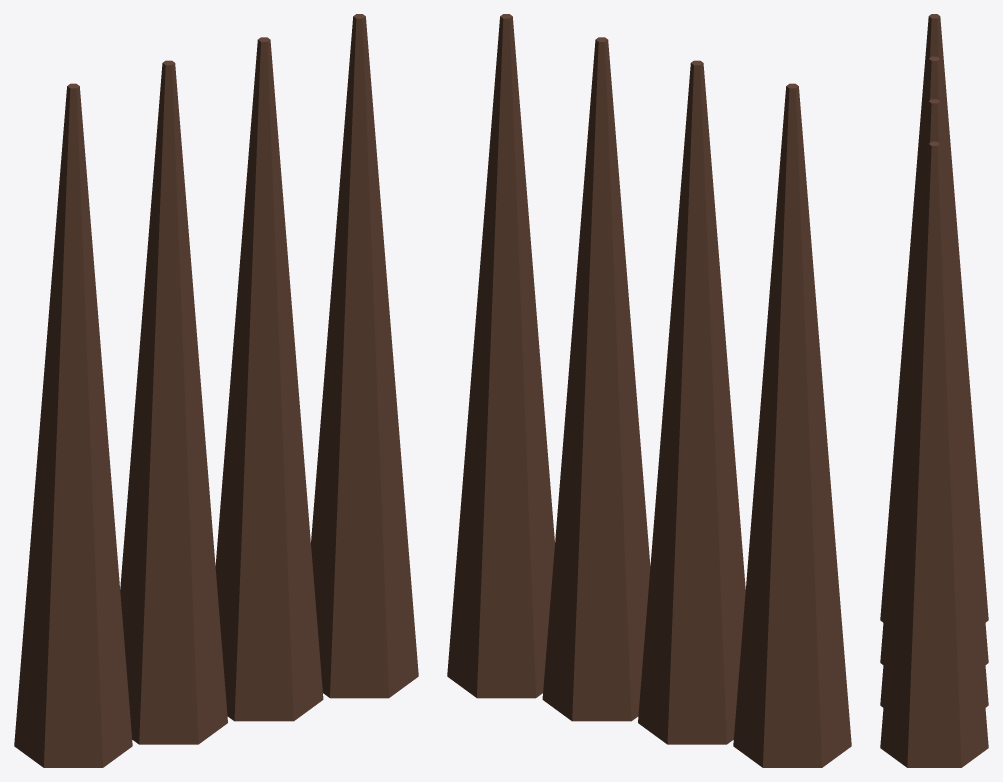
File: goblin_wall.glb
The picture shows the model from 3 angles, left to right: view 1: azimuth 30°, elevation 25°; view 2: azimuth 150°, elevation 25°; view 3: azimuth 270°, elevation 25°; orthographic projection. The views are drawn at different scales.
Parts seen in each view (by area): view 1: Geometry; view 2: Geometry; view 3: Geometry.
Part boxes in pixels (bbox=[...]): Geometry: bbox=[14, 14, 418, 767]; Geometry: bbox=[447, 14, 851, 767]; Geometry: bbox=[880, 14, 988, 767].
Size of the model in its own units: 1.02 by 1.72 by 0.28.
